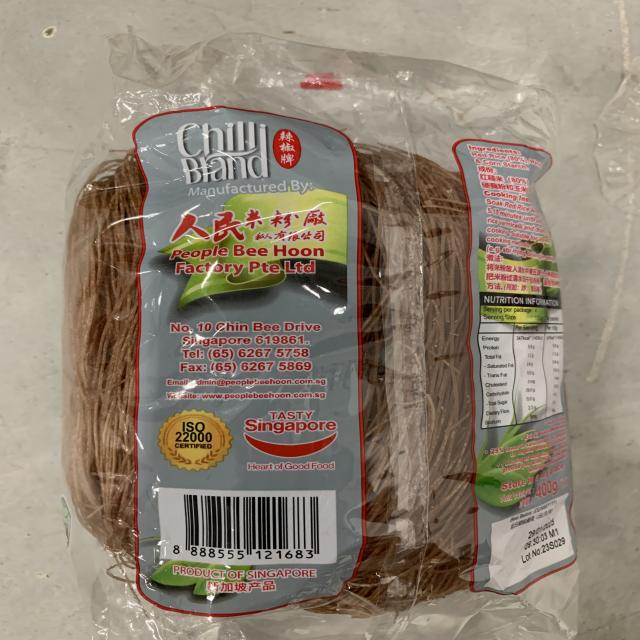object_name: (99, 73, 559, 597)
